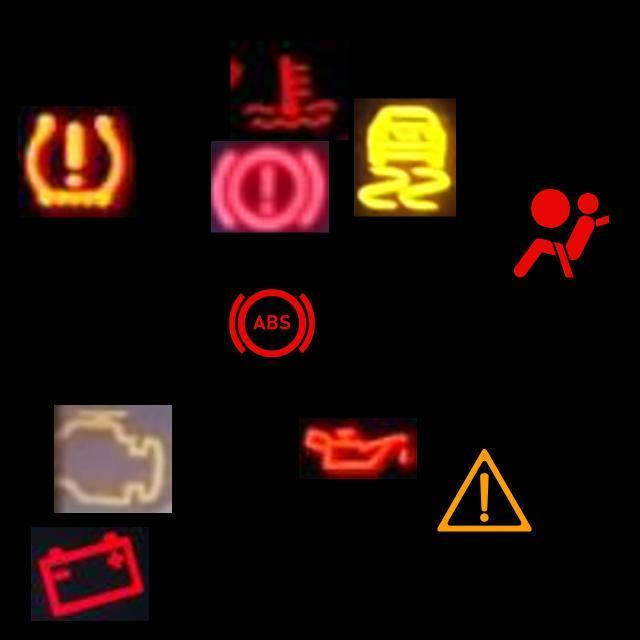Central Warning lamp: (426, 432, 544, 550)
Engine cooling system: (230, 40, 348, 140)
